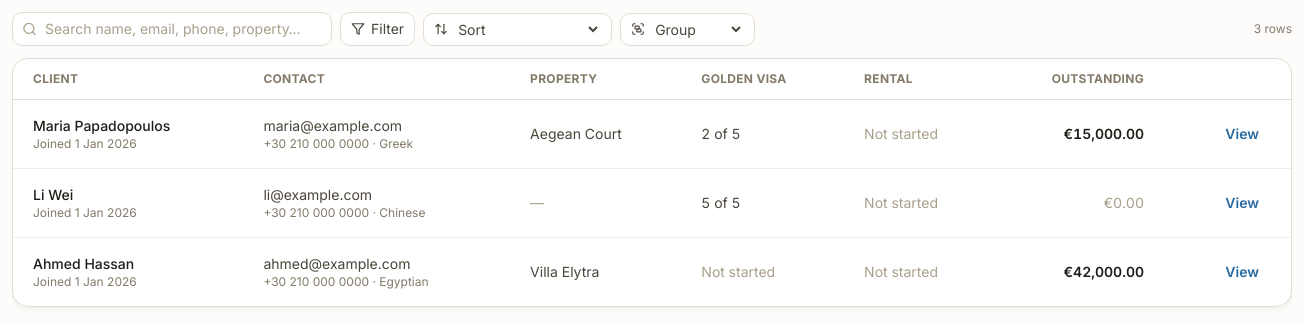
Test: filtering the roster › clears filters from the empty-state prompt
Type "zzzznobody" into the search field named "Search this table" at point(172, 29), box top-left (12, 12), bottom-right (332, 46)
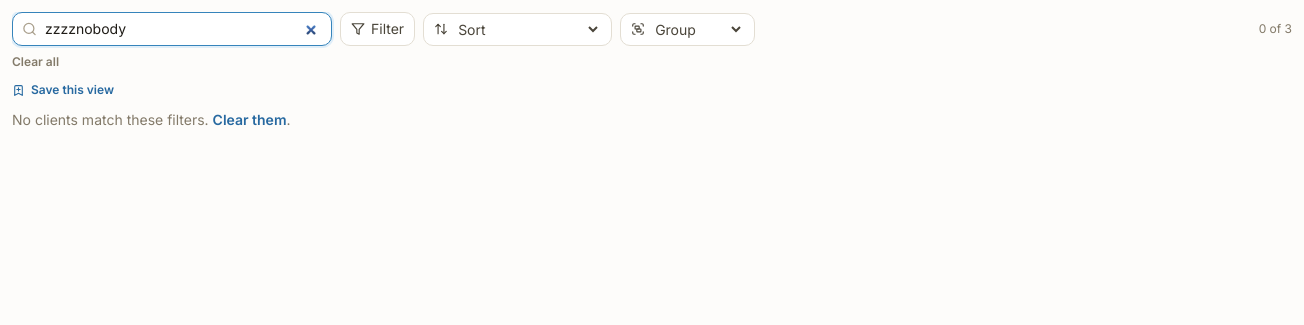
Click the button "Clear them" at point(250, 120), box top-left (213, 110), bottom-right (287, 130)
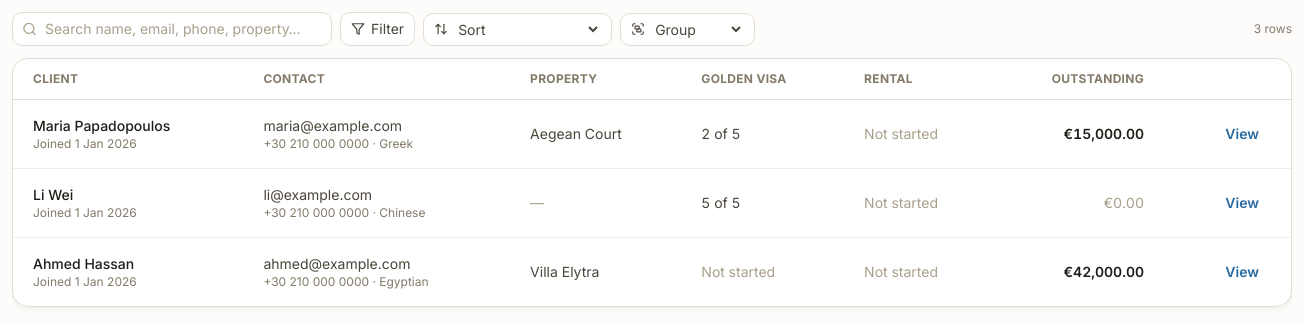
expect the text "Maria Papadopoulos" is shown: met, box top-left (33, 117), bottom-right (170, 134)
